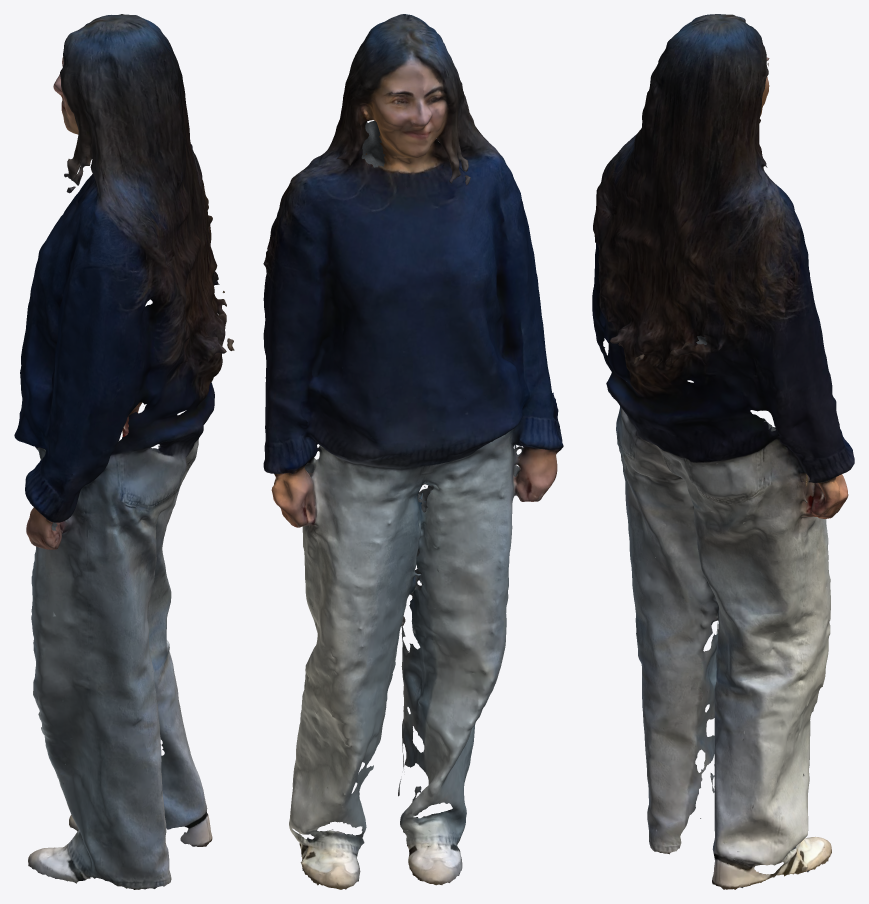
The picture shows the model from 3 angles, left to right: view 1: azimuth 30°, elevation 25°; view 2: azimuth 150°, elevation 25°; view 3: azimuth 270°, elevation 25°; orthographic projection. The views are drawn at different scales.
Parts seen in each view (by area): view 1: Mesh_0; view 2: Mesh_0; view 3: Mesh_0.
Boxes of the visible parts, <box> form: Mesh_0: <box>14,14,234,889</box>; Mesh_0: <box>263,14,563,889</box>; Mesh_0: <box>592,14,854,889</box>.
Size of the model in its own units: 1.03 by 3.55 by 1.02.
Materials: 27 (27 with a texture image).
